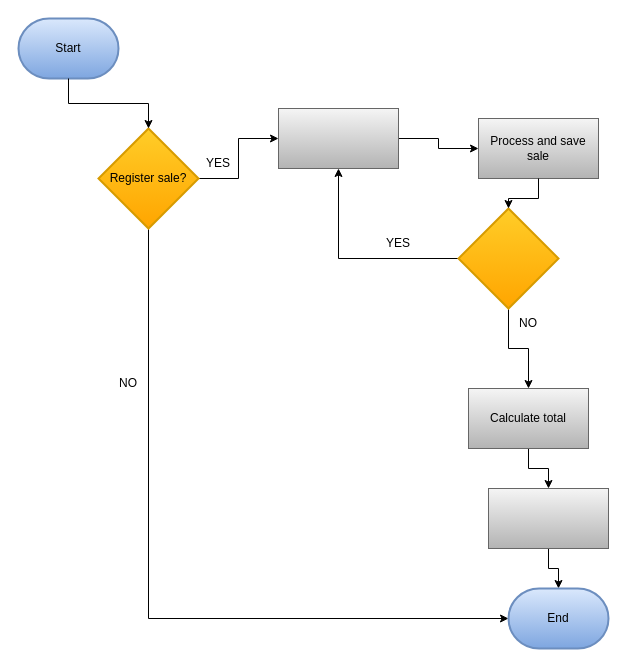
The diagram is 626 pixels wide and 666 high, and some of its shapes have lost their labels. Each missing label, with the centre of its shape:
"Another sale?" belongs at point 508,258.
"Enter data" belongs at point 338,138.
"Show summary" belongs at point 548,518.
